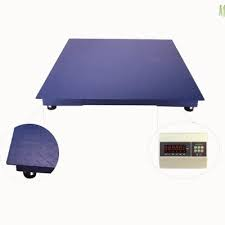Industrial Scale: (34, 37, 208, 171)
